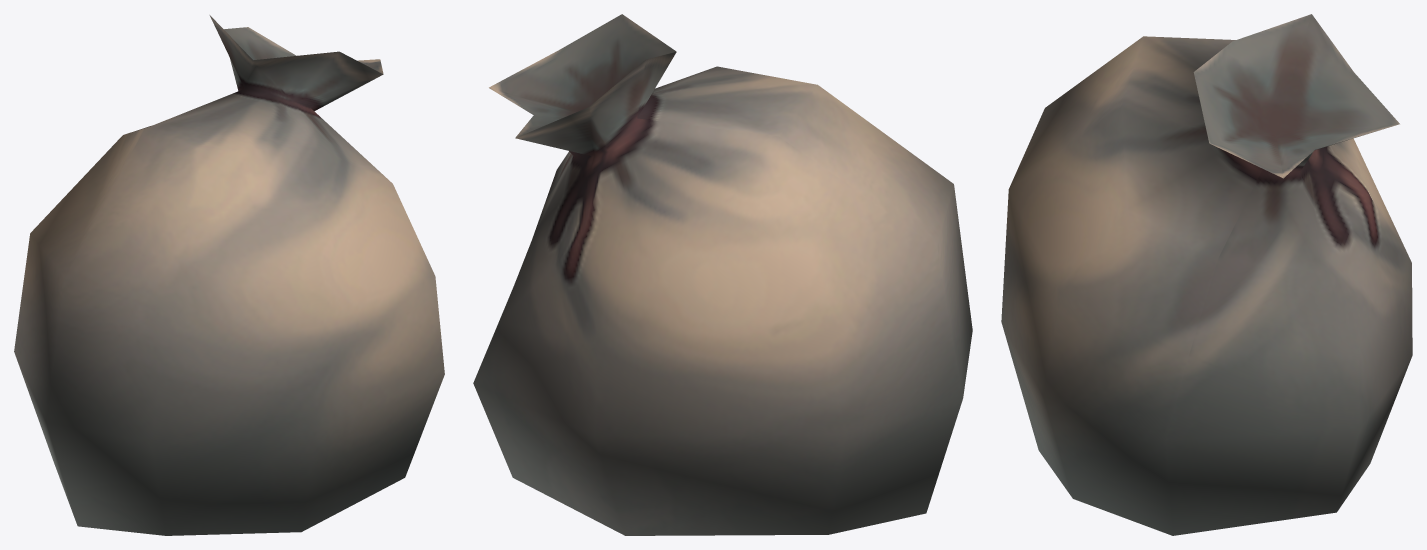
File: sack_of_sand_small2.fbx
The picture shows the model from 3 angles, left to right: view 1: azimuth 30°, elevation 25°; view 2: azimuth 150°, elevation 25°; view 3: azimuth 270°, elevation 25°; orthographic projection. The views are drawn at different scales.
Visible parts, largest first — view 1: sack_of_sand_small2; view 2: sack_of_sand_small2; view 3: sack_of_sand_small2.
Part boxes in pixels (x1,y1,x2,y2): sack_of_sand_small2: (14, 15, 444, 535); sack_of_sand_small2: (473, 14, 972, 535); sack_of_sand_small2: (1001, 14, 1412, 535).
Bounding box in the file's own units: 38.81 × 41.28 × 32.5.
